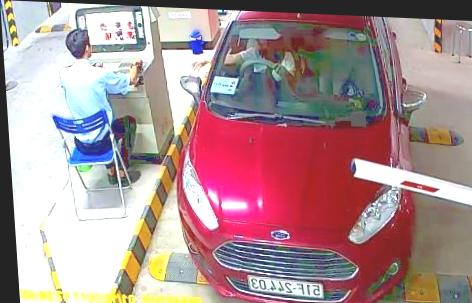License_Plate: (250, 274, 327, 299)
